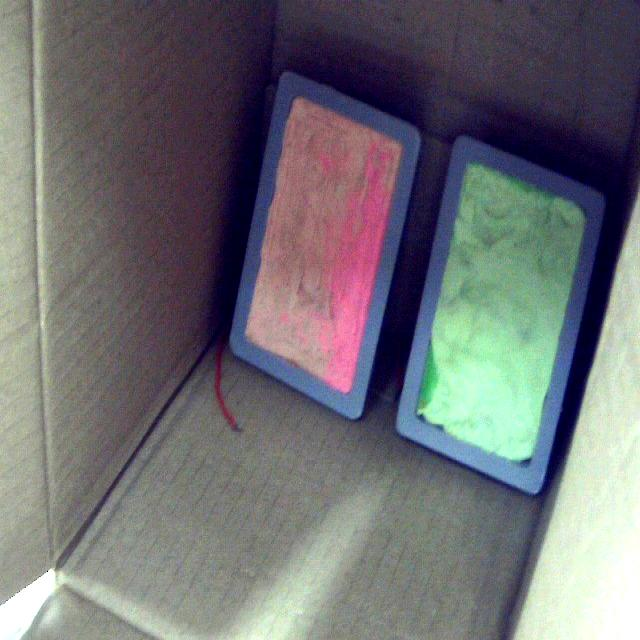block: (393, 138, 604, 496), (228, 74, 420, 424)
